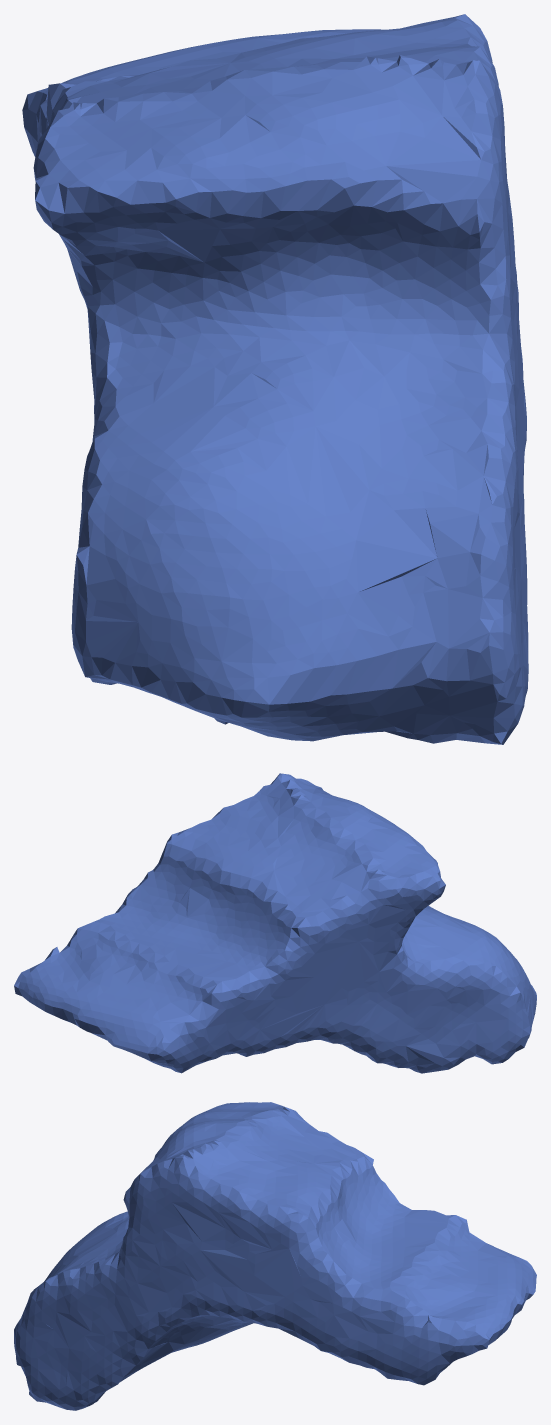
The model's file is Model_98_RH__Medial_superior_temporal_area_of_cortex_(MST).obj.
3 views of the same model, one above another, from view 1: azimuth 30°, elevation 25°; view 2: azimuth 150°, elevation 25°; view 3: azimuth 270°, elevation 25° (orthographic). The views are drawn at different scales.
Size of the model in its own units: 3.35 by 2.59 by 4.45.
